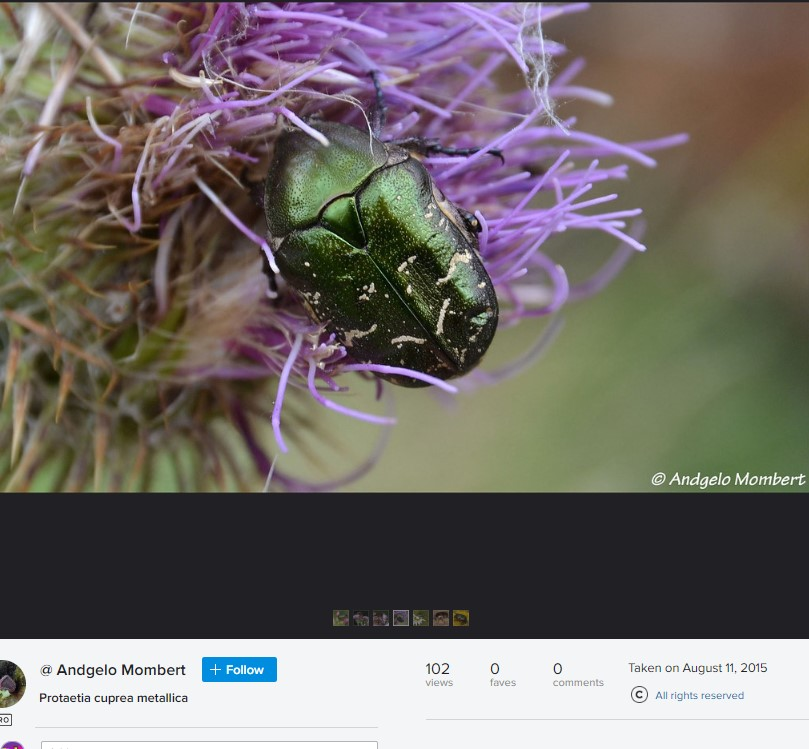Protaetia_metallica: (257, 111, 510, 387)
